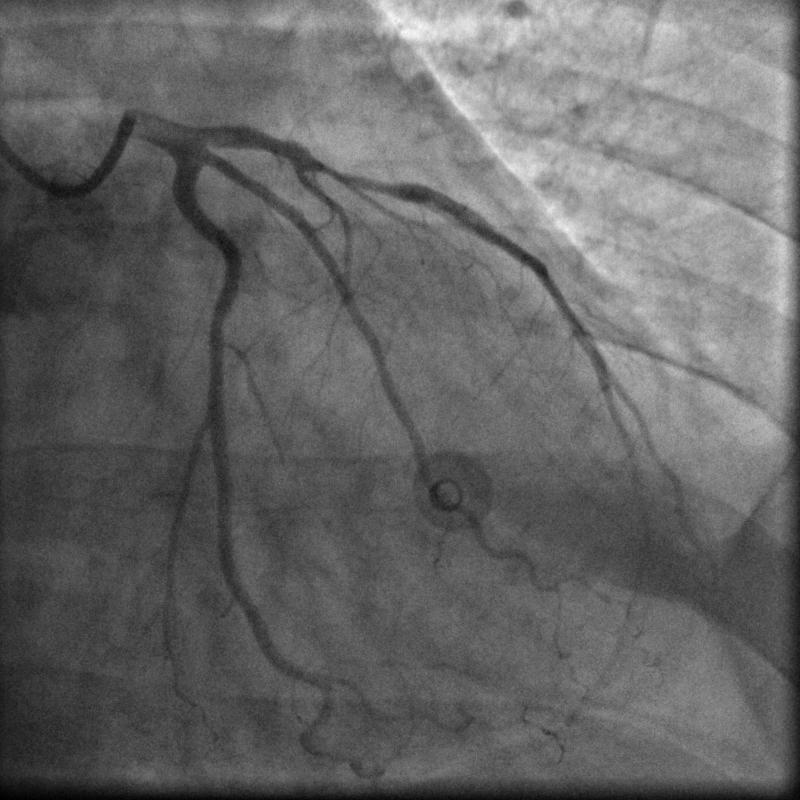Stenosis: (313, 150, 404, 200)
